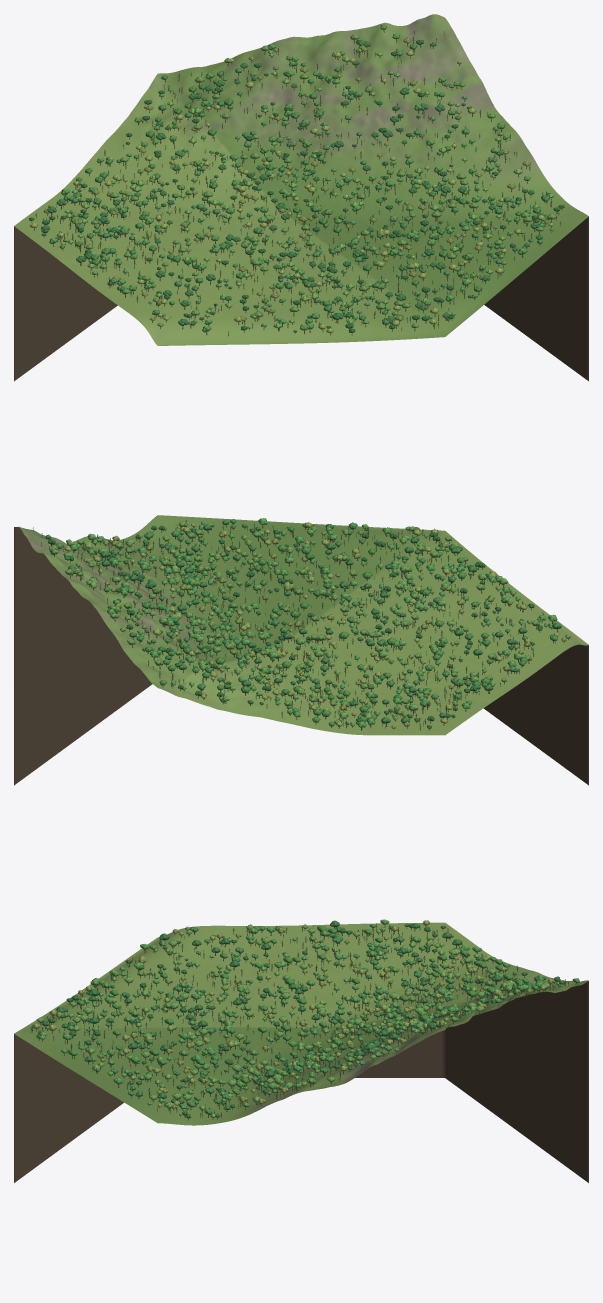
The picture shows the model from 3 angles, top to bottom: view 1: azimuth 30°, elevation 25°; view 2: azimuth 150°, elevation 25°; view 3: azimuth 270°, elevation 25°; orthographic projection.
Visible parts, largest first — view 1: terrain, broadleaf_canopy, hex_side_cut, trunks, conifer_canopy; view 2: terrain, broadleaf_canopy, hex_side_cut, trunks, conifer_canopy; view 3: terrain, hex_side_cut, broadleaf_canopy, trunks, conifer_canopy.
Boxes of the visible parts, <box> form: terrain: <box>14,14,588,345</box>; broadleaf_canopy: <box>29,25,564,332</box>; hex_side_cut: <box>14,216,588,381</box>; trunks: <box>31,30,562,336</box>; conifer_canopy: <box>35,30,561,334</box>; terrain: <box>18,515,588,735</box>; broadleaf_canopy: <box>45,518,570,728</box>; hex_side_cut: <box>14,527,588,785</box>; trunks: <box>33,520,568,730</box>; conifer_canopy: <box>33,520,553,728</box>; terrain: <box>14,922,588,1125</box>; hex_side_cut: <box>14,981,588,1182</box>; broadleaf_canopy: <box>33,919,579,1118</box>; trunks: <box>31,924,576,1120</box>; conifer_canopy: <box>30,923,568,1115</box>.
Bounding box in the file's own units: 4330 × 2516 × 5000.
Materials: 6 (1 with a texture image).
